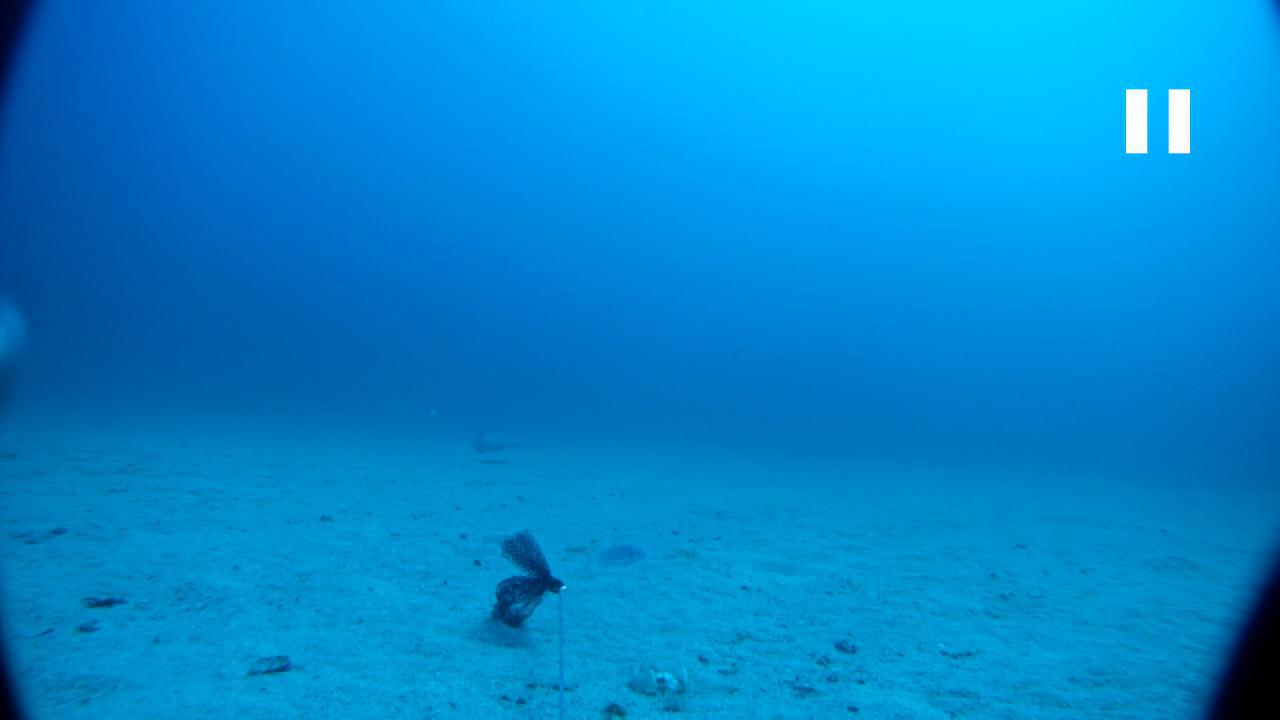bothus: (242, 655, 292, 674)
dasyatis: (469, 427, 549, 455)
